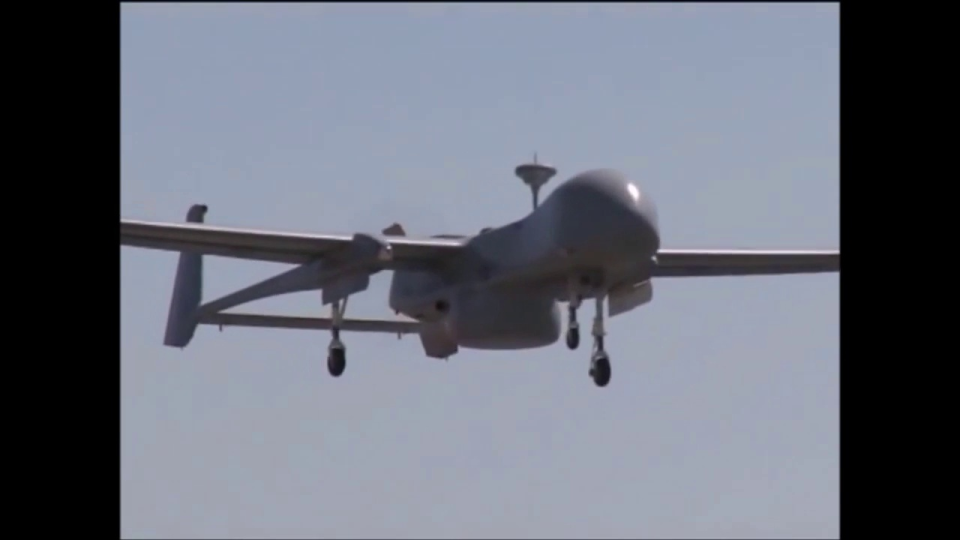military drone: (120, 150, 839, 387)
